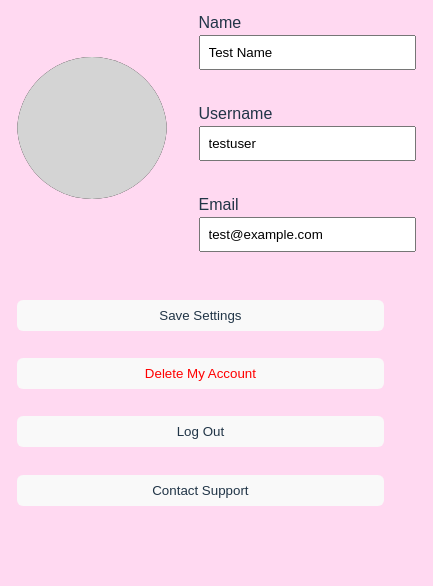
Test: UserProfile Component › handles failed delete account
The image size is (433, 586).
Expected: the 1st field showing "Test Name" is shown, [198,35,416,70]
Click the button "Delete My Account": click(200, 374) [16,358,384,389]
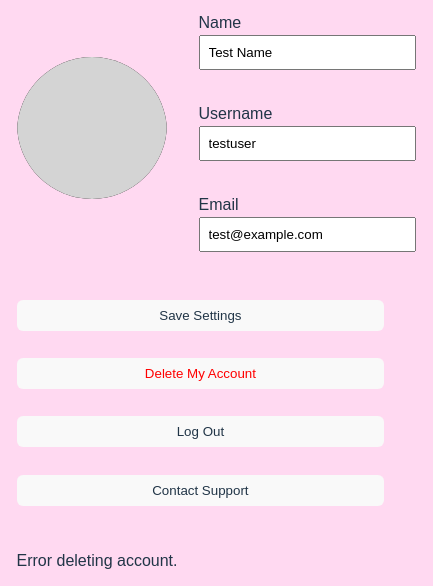
Expected: the text "Error deleting account." is shown, [16,552,178,569]
